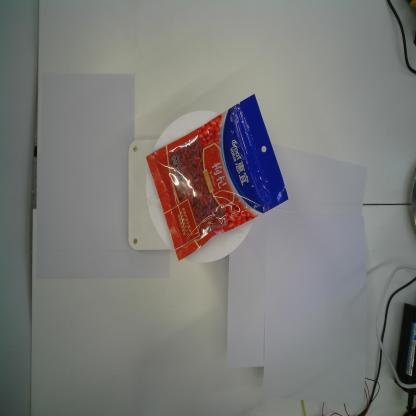Dried Fruit: (144, 89, 289, 261)
